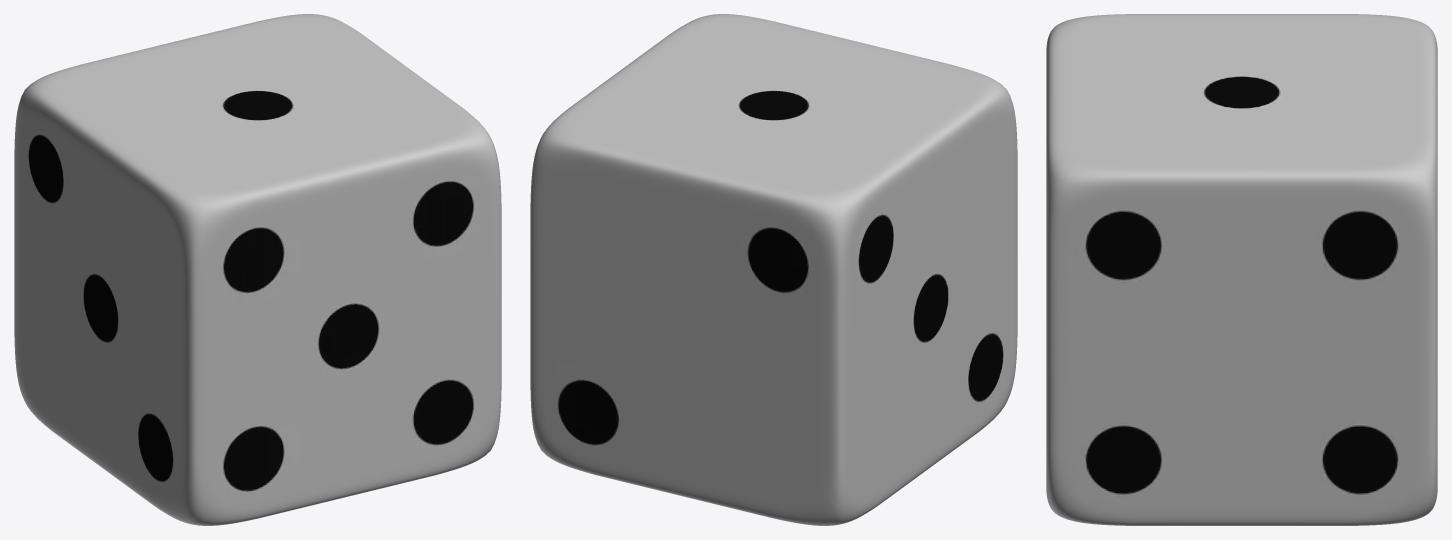
File: dice-transformed.glb
The picture shows the model from 3 angles, left to right: view 1: azimuth 30°, elevation 25°; view 2: azimuth 150°, elevation 25°; view 3: azimuth 270°, elevation 25°; orthographic projection. The views are drawn at different scales.
Parts seen in each view (by area): view 1: redo uv; view 2: redo uv; view 3: redo uv.
Boxes of the visible parts, bbox=[...] form: redo uv: bbox=[14, 14, 501, 525]; redo uv: bbox=[530, 14, 1017, 525]; redo uv: bbox=[1046, 14, 1437, 525].
Bounding box in the file's own units: 2 × 2 × 2.
1 material, 1 textured.
